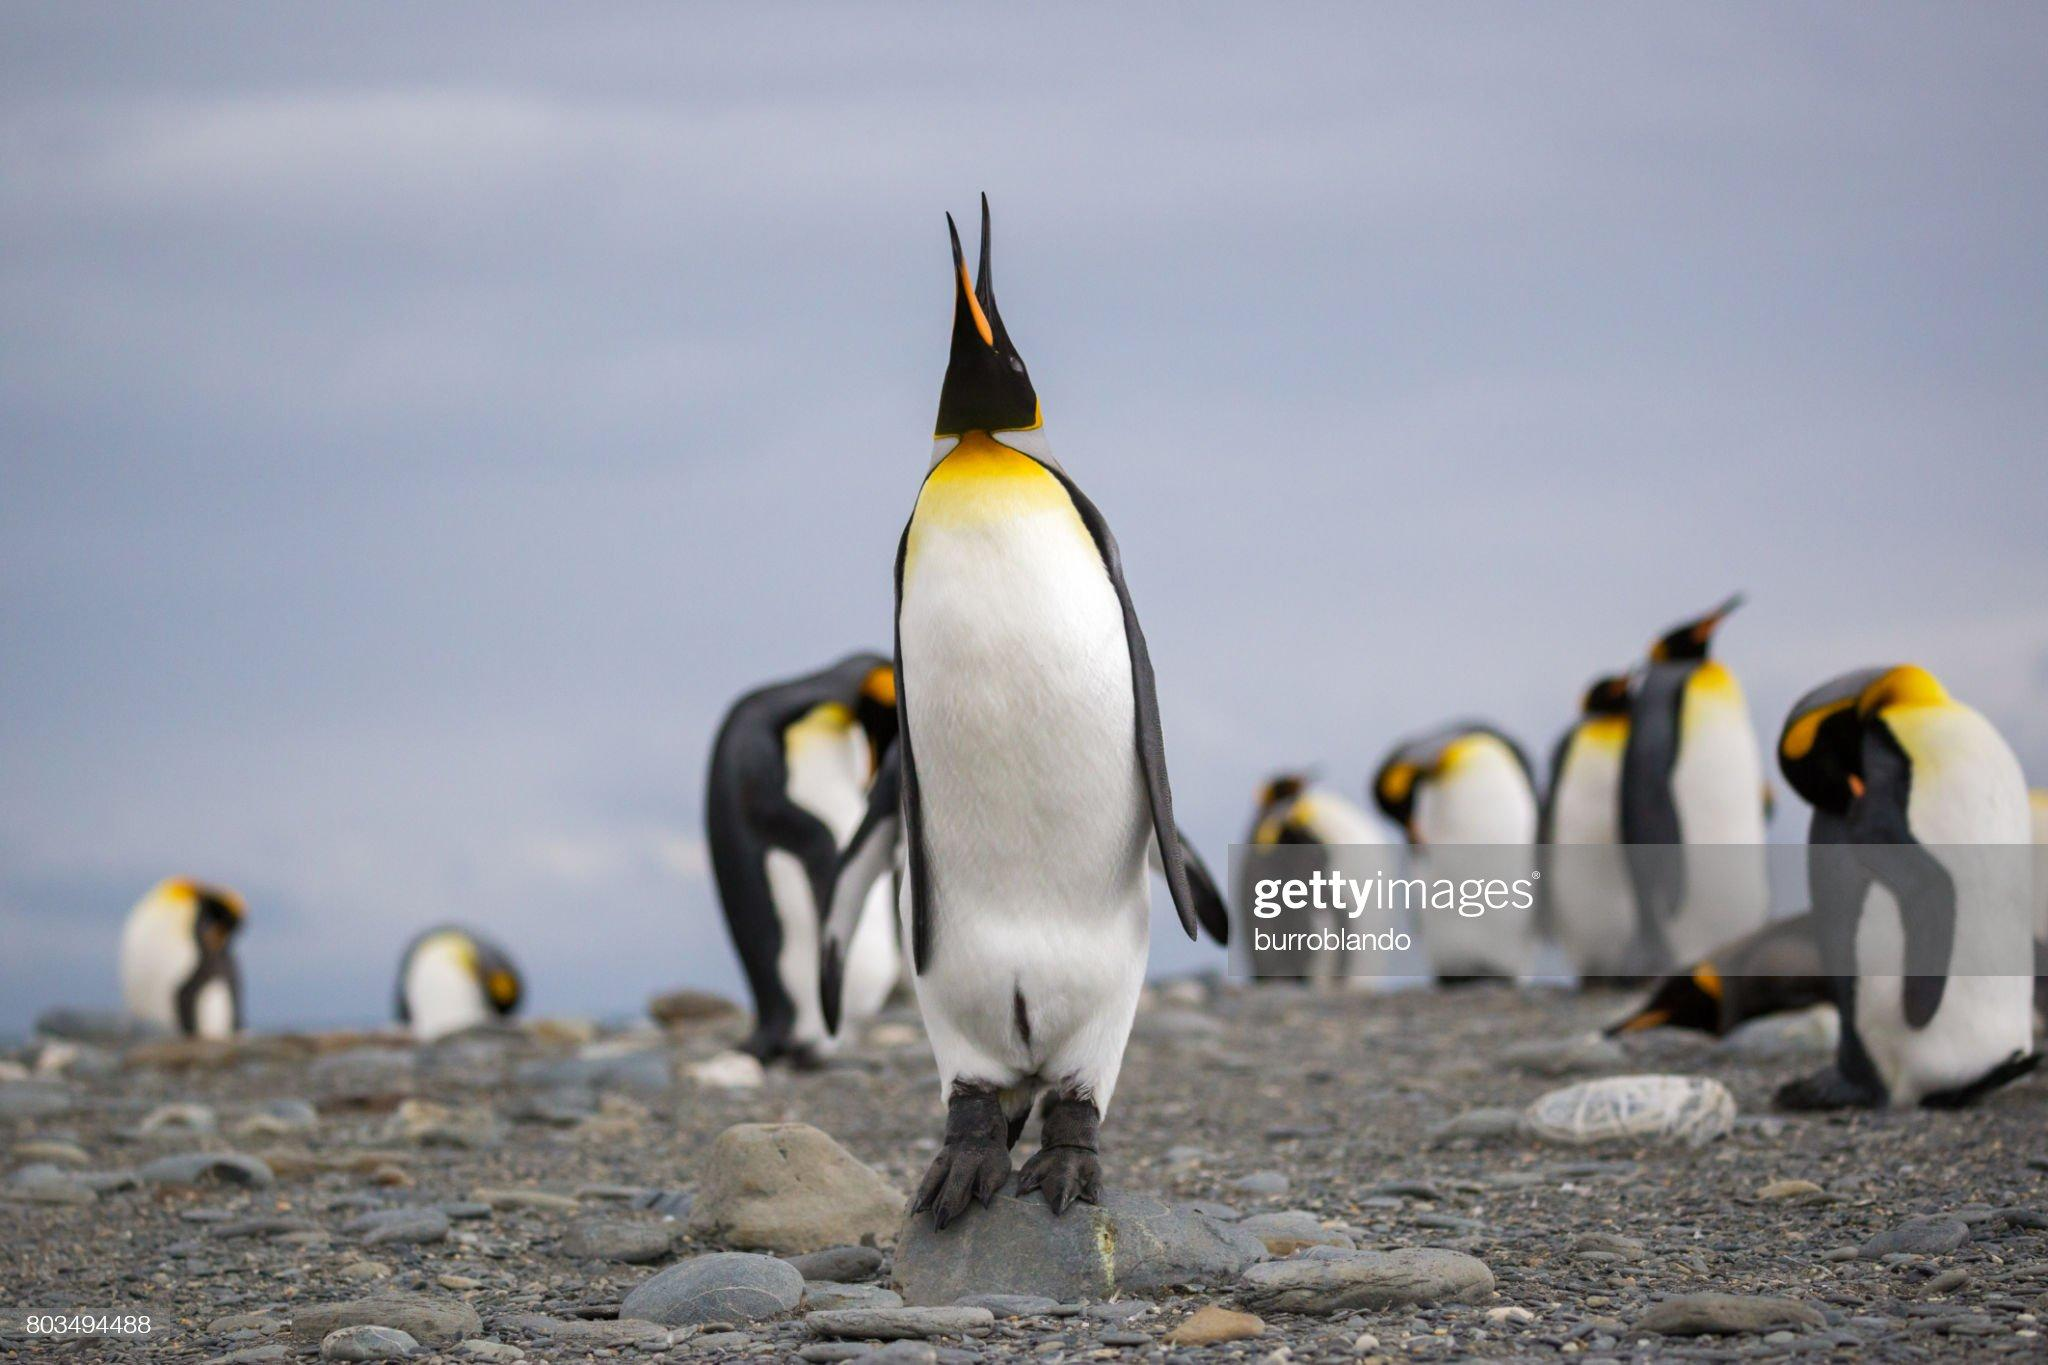king: (775, 177, 1332, 1280)
